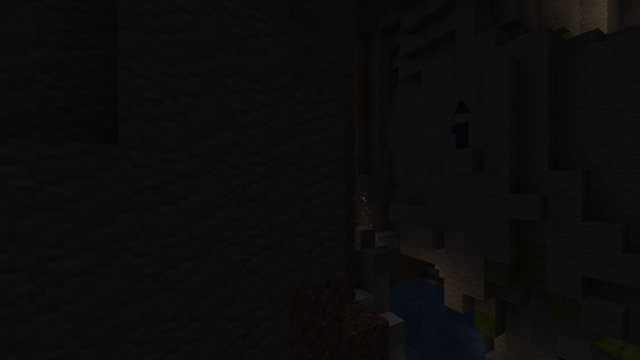sorcieres: (453, 110, 468, 142)
